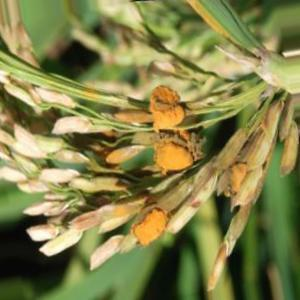False Smut: (146, 89, 204, 180), (212, 155, 252, 207), (137, 209, 178, 247)
